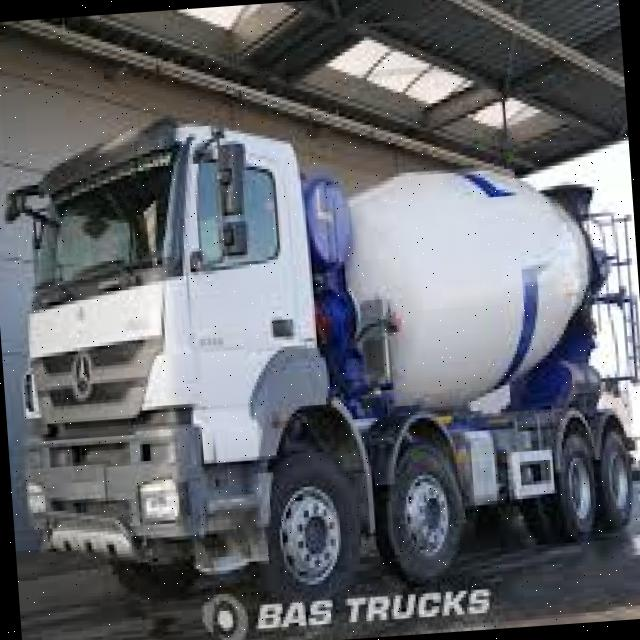Mixer Truck: (0, 79, 640, 640)
